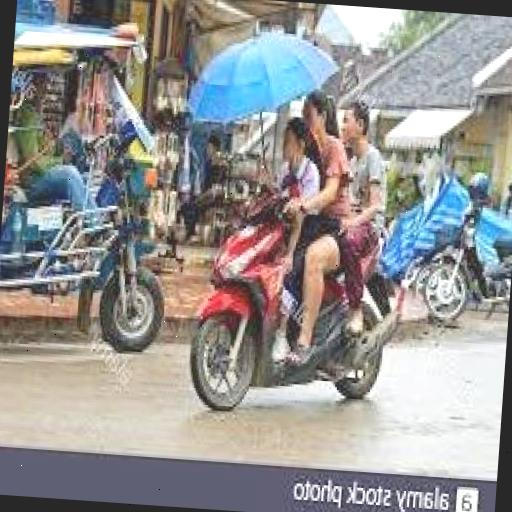no helmet: (294, 84, 347, 158)
triple riding: (181, 81, 424, 424)
